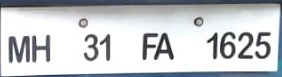character: (6, 35, 30, 63), (30, 33, 51, 63), (153, 31, 174, 61), (236, 30, 254, 59), (141, 31, 158, 60), (254, 30, 270, 60), (219, 30, 236, 58), (82, 32, 98, 61), (98, 31, 111, 62), (205, 30, 218, 60)
